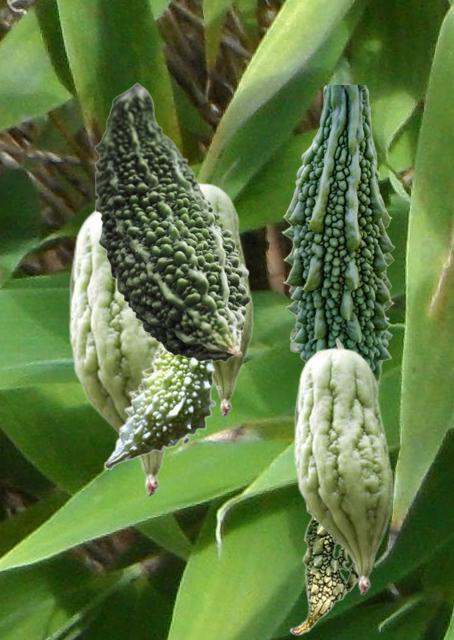ampalaya: (94, 82, 250, 361), (281, 85, 394, 385), (68, 209, 167, 496), (293, 347, 393, 594), (289, 336, 357, 634), (103, 343, 221, 469), (199, 182, 253, 416)
